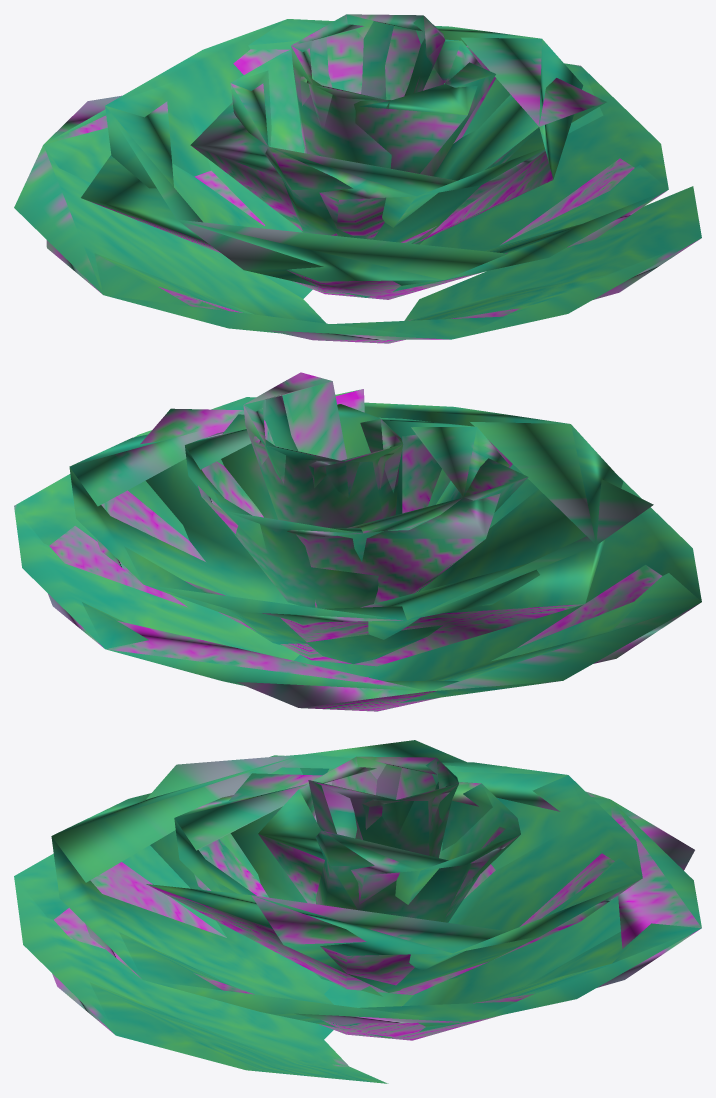
The picture shows the model from 3 angles, top to bottom: view 1: azimuth 30°, elevation 25°; view 2: azimuth 150°, elevation 25°; view 3: azimuth 270°, elevation 25°; orthographic projection. The views are drawn at different scales.
Visible parts, largest first — view 1: Cube.002; view 2: Cube.002; view 3: Cube.002.
Boxes of the visible parts, x1=… form: Cube.002: x1=14, y1=14, x2=701, y2=343; Cube.002: x1=14, y1=372, x2=701, y2=711; Cube.002: x1=14, y1=740, x2=701, y2=1083.
Bounding box in the file's own units: 5.06 × 2.39 × 5.03.
1 material, 1 textured.
